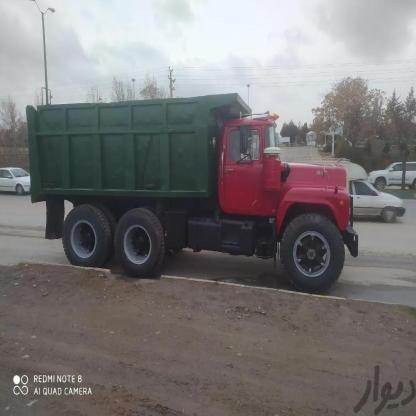Car: (340, 164, 408, 228), (374, 156, 416, 194), (0, 161, 34, 202)
Truck: (29, 92, 356, 295)
